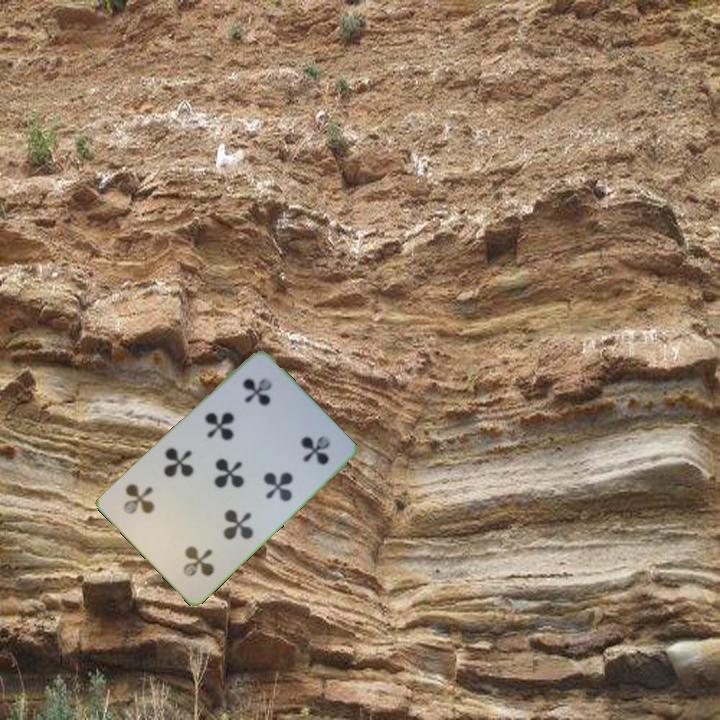c_9.png: (218, 358, 304, 445), (150, 509, 235, 595)
